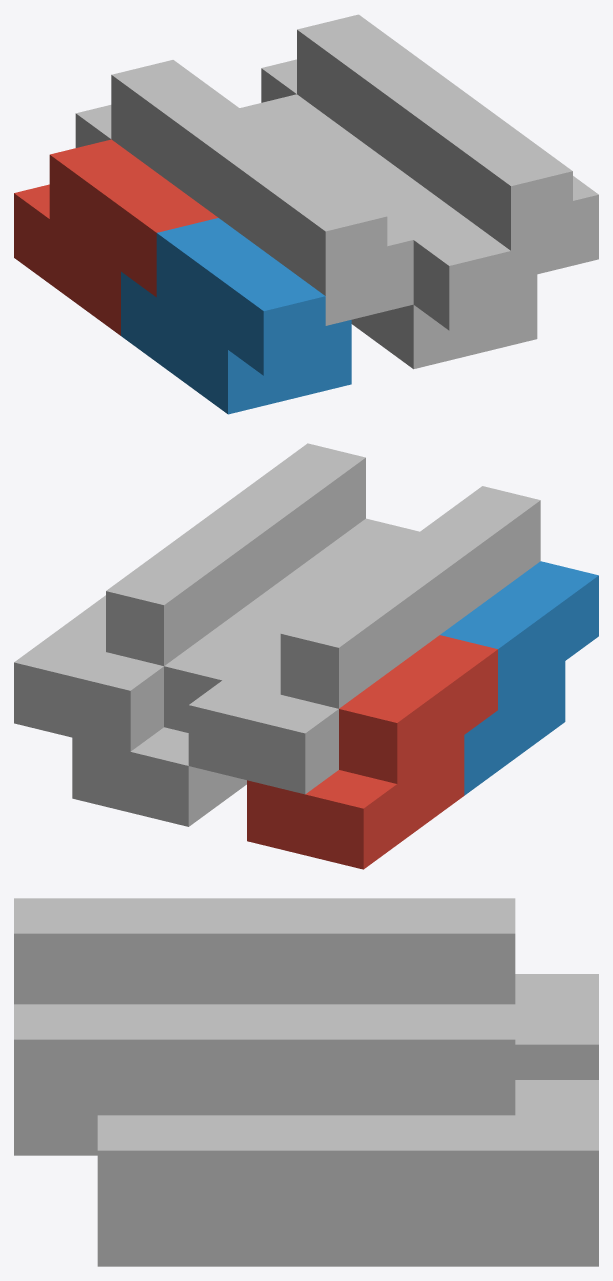
Rendered from tiling.obj.
The picture shows the model from 3 angles, top to bottom: view 1: azimuth 30°, elevation 25°; view 2: azimuth 150°, elevation 25°; view 3: azimuth 270°, elevation 25°; orthographic projection. The views are drawn at different scales.
Parts seen in each view (by area): view 1: copy_1_domain_2, copy_1_domain_4, copy_1_domain_8, copy_1_domain_1, copy_1_domain_6, copy_1_domain_3, copy_1_domain_7, copy_1_domain_5; view 2: copy_1_domain_1, copy_1_domain_3, copy_1_domain_7, copy_1_domain_2, copy_1_domain_5, copy_1_domain_8, copy_1_domain_4, copy_1_domain_6; view 3: copy_1_domain_7, copy_1_domain_8, copy_1_domain_3, copy_1_domain_4, copy_1_domain_6, copy_1_domain_5.
Boxes of the visible parts, box(x1,y1,x2,y2) form: copy_1_domain_2: box(121, 218, 351, 414); copy_1_domain_4: box(218, 138, 413, 325); copy_1_domain_8: box(404, 93, 598, 280); copy_1_domain_1: box(14, 139, 218, 335); copy_1_domain_6: box(347, 172, 537, 369); copy_1_domain_3: box(75, 60, 279, 217); copy_1_domain_7: box(261, 14, 465, 172); copy_1_domain_5: box(240, 94, 403, 186); copy_1_domain_1: box(247, 635, 497, 869); copy_1_domain_3: box(188, 560, 439, 794); copy_1_domain_7: box(14, 517, 264, 751); copy_1_domain_2: box(440, 561, 598, 795); copy_1_domain_5: box(72, 592, 318, 826); copy_1_domain_8: box(207, 443, 365, 591); copy_1_domain_4: box(382, 486, 540, 634); copy_1_domain_6: box(265, 518, 419, 605); copy_1_domain_7: box(264, 1004, 598, 1226); copy_1_domain_8: box(14, 1004, 348, 1226); copy_1_domain_3: box(264, 898, 598, 1079); copy_1_domain_4: box(14, 898, 264, 1004); copy_1_domain_6: box(14, 1115, 348, 1266); copy_1_domain_5: box(348, 1226, 598, 1266).
Bounding box in the file's own units: 6 × 3 × 7.
